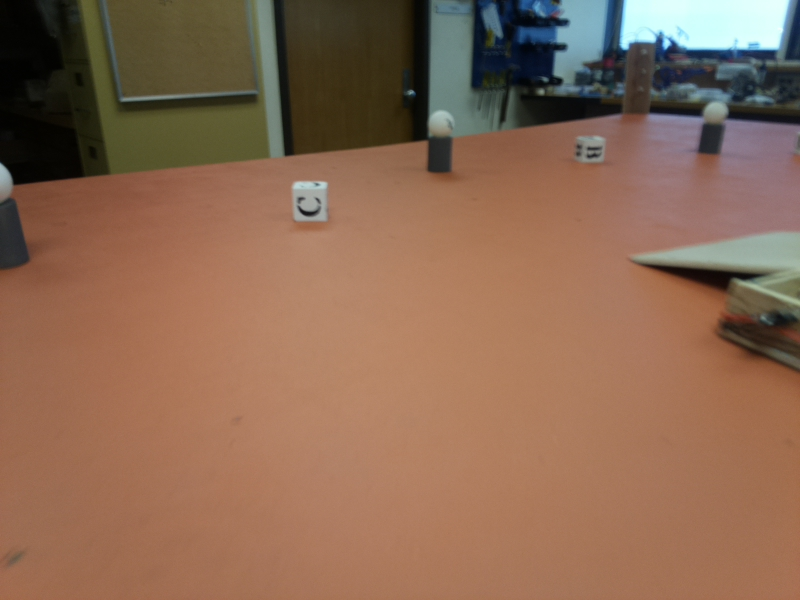blockB: (573, 131, 606, 168)
blockC: (288, 177, 330, 226)
corner: (625, 42, 653, 116)
obstacle: (1, 159, 24, 268), (697, 101, 733, 157), (429, 110, 455, 175)
side: (725, 286, 800, 358)
